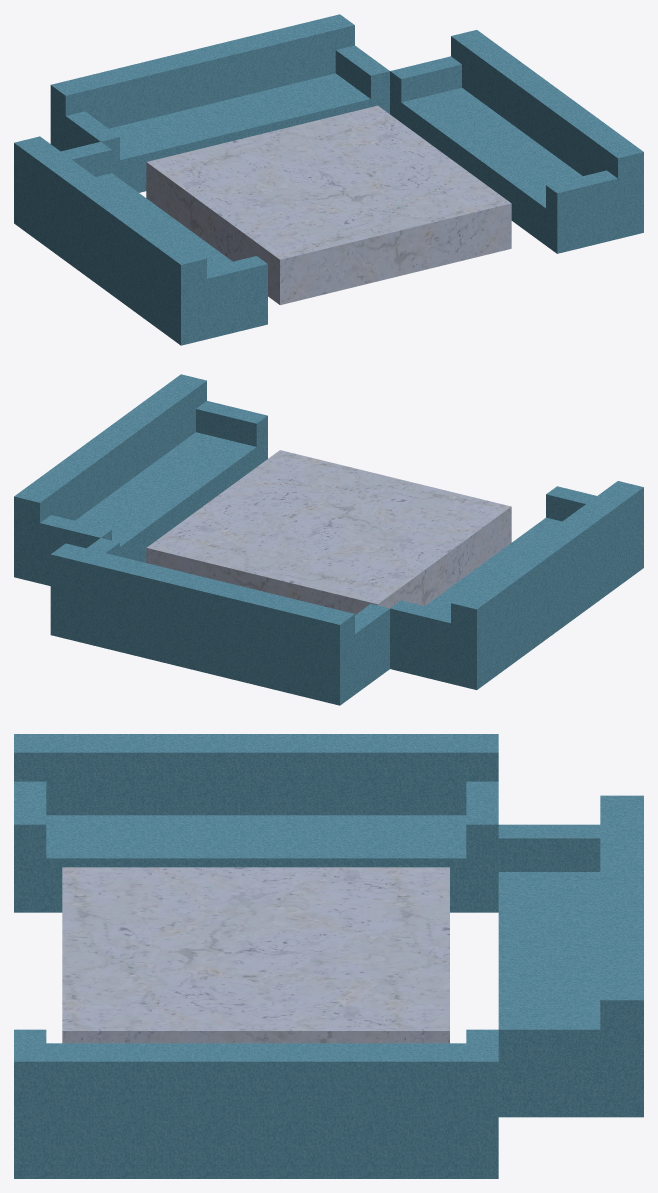
File: communication_zone.glb
3 views of the same model, one above another, from view 1: azimuth 30°, elevation 25°; view 2: azimuth 150°, elevation 25°; view 3: azimuth 270°, elevation 25° (orthographic). The views are drawn at different scales.
Parts seen in each view (by area): view 1: Geom3D (×4); view 2: Geom3D (×4); view 3: Geom3D (×4).
Boxes of the visible parts, box(x1,y1,x2,y2) form: Geom3D (×4): box(14, 14, 643, 345); Geom3D (×4): box(14, 374, 643, 705); Geom3D (×4): box(14, 734, 643, 1178).
Size of the model in its own units: 4.8 by 0.8 by 3.9.
2 materials, 2 textured.
